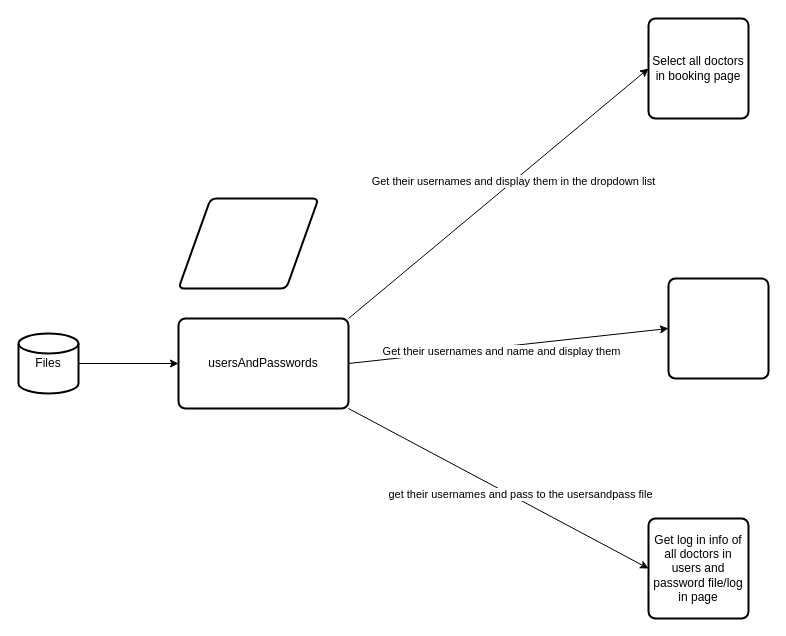
Some shapes in this 786 by 636 pixel diagram are drawn without their labels. The centre of each missing label's shape, as x and y in pixels:
All doctors info: (248,243)
Display all doctors in admin page: (718,328)
